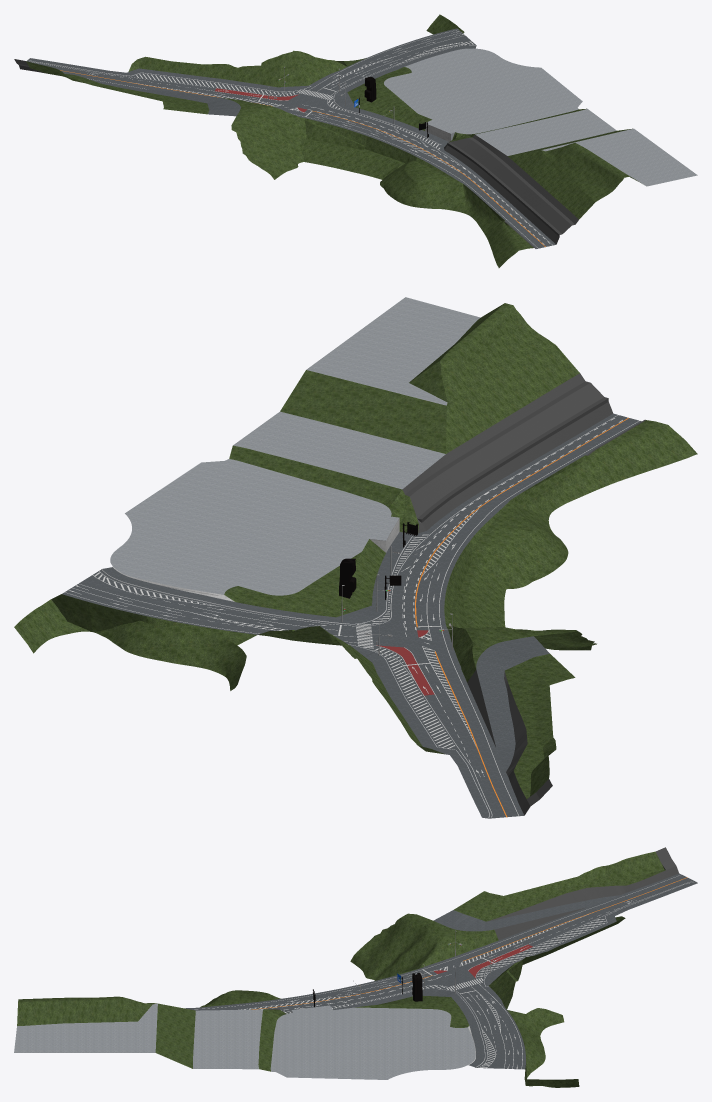
Rendered from genkyo.FBX.
The picture shows the model from 3 angles, top to bottom: view 1: azimuth 30°, elevation 25°; view 2: azimuth 150°, elevation 25°; view 3: azimuth 270°, elevation 25°; orthographic projection. The views are drawn at different scales.
Parts seen in each view (by area): view 1: 000-緑地-001, 000-道の駅-敷地, 001-現況道路, 000-擁壁-001, 009-マーキング-現況-白線(0.001↑), 003-現況歩道-001, 003-現況歩道-002, 000-脇道, 003-交差点-現況-アスファルト, 009-マーキング-現況-黄線(0.001↑); view 2: 000-緑地-001, 000-道の駅-敷地, 001-現況道路, 000-擁壁-001, 009-マーキング-現況-白線(0.001↑), 000-脇道, 003-現況歩道-001, 003-現況歩道-002, 003-交差点-現況-アスファルト; view 3: 000-道の駅-敷地, 000-緑地-001, 001-現況道路, 009-マーキング-現況-白線(0.001↑), 000-擁壁-001, 000-脇道, 003-現況歩道-001, 003-交差点-現況-アスファルト, 003-現況歩道-002, 009-マーキング-現況-黄線(0.001↑).
Part boxes in pixels (left/top/right/bottom): 000-緑地-001: left=26, top=14, right=641, bottom=267; 000-道の駅-敷地: left=384, top=48, right=697, bottom=186; 001-現況道路: left=27, top=28, right=556, bottom=248; 000-擁壁-001: left=14, top=59, right=578, bottom=248; 009-マーキング-現況-白線(0.001↑): left=29, top=30, right=552, bottom=248; 003-現況歩道-001: left=334, top=45, right=476, bottom=144; 003-現況歩道-002: left=28, top=58, right=310, bottom=91; 000-脇道: left=98, top=82, right=240, bottom=116; 003-交差点-現況-アスファルト: left=282, top=86, right=337, bottom=112; 009-マーキング-現況-黄線(0.001↑): left=60, top=70, right=545, bottom=246; 000-緑地-001: left=14, top=303, right=697, bottom=798; 000-道の駅-敷地: left=110, top=297, right=480, bottom=595; 001-現況道路: left=62, top=413, right=641, bottom=818; 000-擁壁-001: left=402, top=373, right=645, bottom=815; 009-マーキング-現況-白線(0.001↑): left=65, top=415, right=639, bottom=817; 000-脇道: left=476, top=636, right=549, bottom=771; 003-現況歩道-001: left=102, top=534, right=411, bottom=623; 003-現況歩道-002: left=349, top=644, right=488, bottom=818; 003-交差点-現況-アスファルト: left=344, top=617, right=424, bottom=655; 000-道の駅-敷地: left=14, top=1003, right=475, bottom=1079; 000-緑地-001: left=17, top=851, right=665, bottom=1087; 001-現況道路: left=185, top=873, right=695, bottom=1069; 009-マーキング-現況-白線(0.001↑): left=194, top=874, right=691, bottom=1068; 000-擁壁-001: left=263, top=847, right=678, bottom=1009; 000-脇道: left=433, top=895, right=619, bottom=931; 003-現況歩道-001: left=333, top=988, right=484, bottom=1067; 003-交差点-現況-アスファルト: left=425, top=965, right=487, bottom=992; 003-現況歩道-002: left=484, top=882, right=697, bottom=986; 009-マーキング-現況-黄線(0.001↑): left=251, top=877, right=687, bottom=1009.
Bounding box in the file's own units: 185 × 28 × 247.
